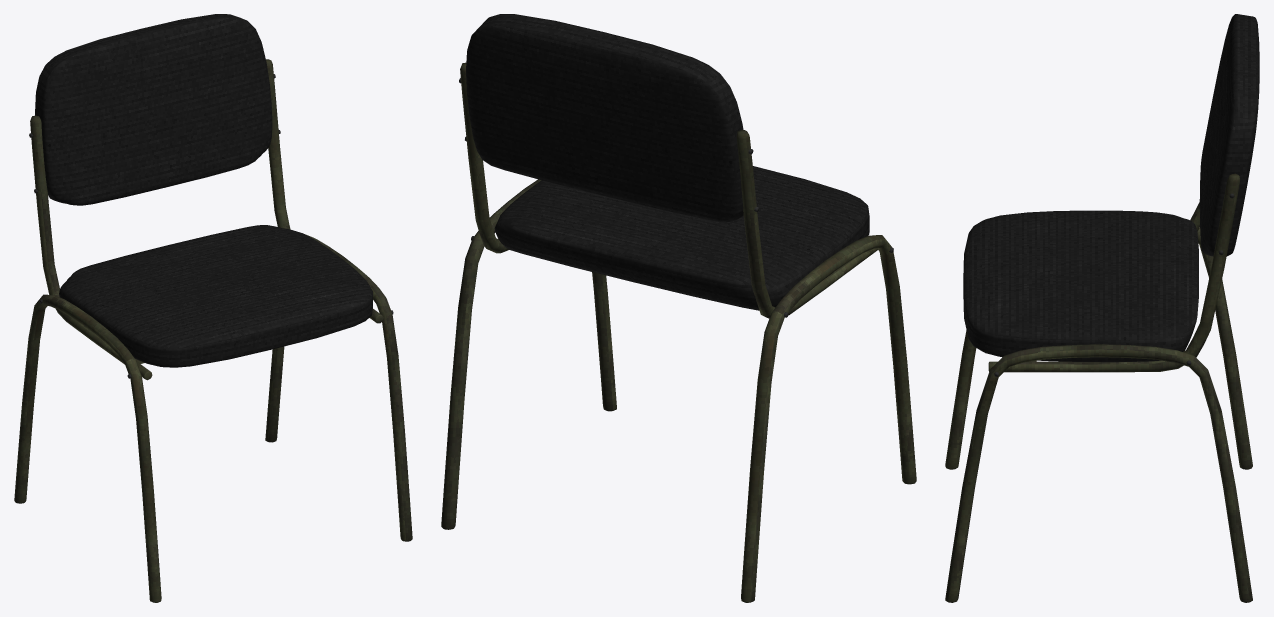
The model's file is chair_1.glb.
3 views of the same model, side by side, from view 1: azimuth 30°, elevation 25°; view 2: azimuth 150°, elevation 25°; view 3: azimuth 270°, elevation 25° (orthographic). The views are drawn at different scales.
Parts seen in each view (by area): view 1: chair_1; view 2: chair_1; view 3: chair_1.
Part boxes in pixels (box(x1,y1,x2,y2)): chair_1: box(14, 14, 412, 602); chair_1: box(441, 14, 916, 602); chair_1: box(945, 14, 1259, 602).
Bounding box in the file's own units: 0.741 × 1.19 × 0.7036.
3 materials, 3 textured.
